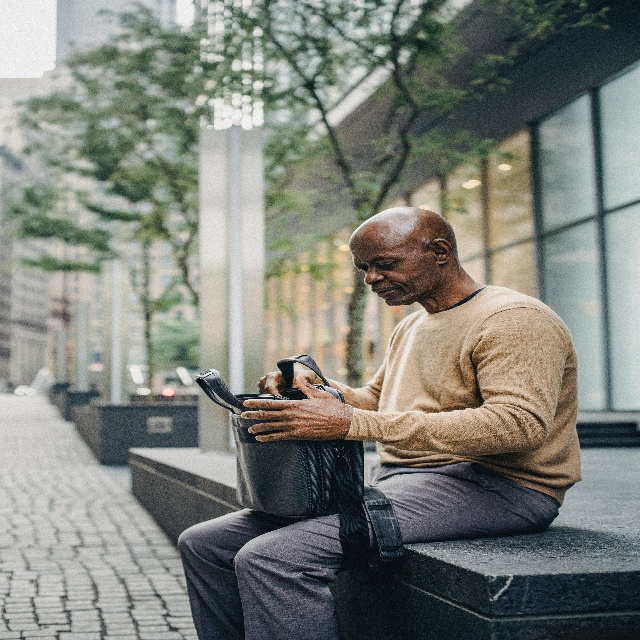Sin_guantes: (240, 375, 354, 445), (257, 368, 321, 400)
